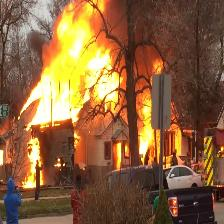fire: (49, 7, 105, 118)
